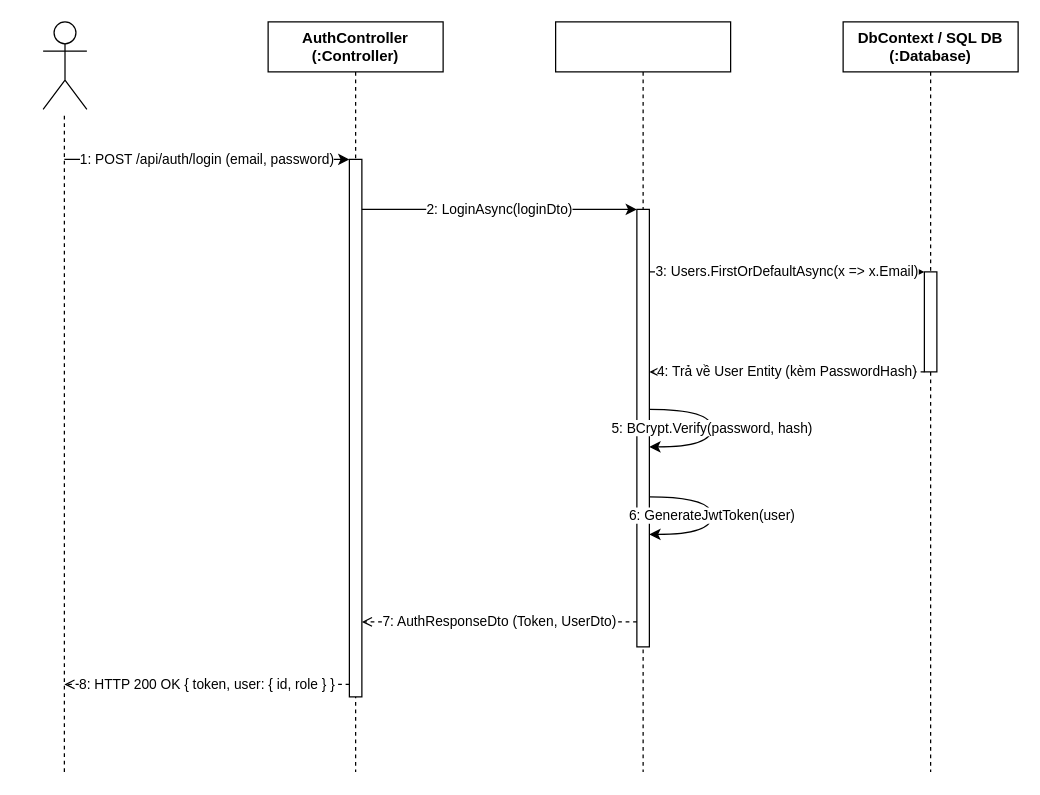
Image size: 1040x795. Some labels were removed from this diagram. Here are the shapes that lost their labels. From the top down, the centre of each, then its label:
At [64,65]: "User / Client".
At [642,396]: "AuthService (:Service)".
